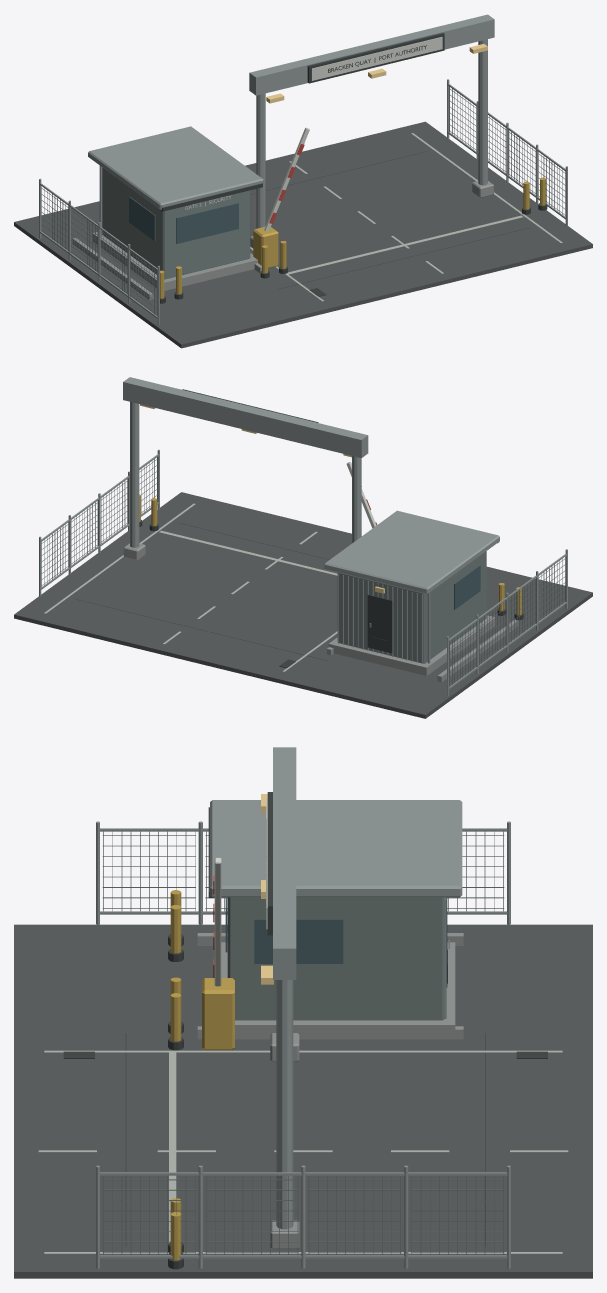
Rendered from bracken-gatehouse.glb.
3 views of the same model, one above another, from view 1: azimuth 30°, elevation 25°; view 2: azimuth 150°, elevation 25°; view 3: azimuth 270°, elevation 25° (orthographic). The views are drawn at different scales.
Visible parts, largest first — view 1: road asphalt module, booth low canopy, security booth body, open fence wire vertical, booth footway kerb, asphalt repair seam, security booth side window, security booth label, barrier operator cabinet, faded lane edge; view 2: road asphalt module, booth low canopy, security booth body, open fence wire vertical, booth footway kerb, asphalt repair seam, faded lane edge, security booth side window, barrier operator cabinet; view 3: road asphalt module, booth low canopy, security booth body, open fence wire vertical, booth footway kerb, barrier operator cabinet, faded lane edge, asphalt repair seam, security booth side window, security booth label.
Part boxes in pixels (box(x1,y1,x2,y2)): road asphalt module: box(14, 121, 592, 348); booth low canopy: box(39, 14, 567, 325); security booth body: box(102, 167, 250, 279); open fence wire vertical: box(41, 86, 565, 316); booth footway kerb: box(72, 181, 493, 300); asphalt repair seam: box(160, 33, 547, 303); security booth side window: box(129, 196, 238, 243); security booth label: box(185, 37, 442, 231); barrier operator cabinet: box(160, 177, 545, 298); faded lane edge: box(250, 133, 562, 301); road asphalt module: box(14, 492, 592, 718); booth low canopy: box(39, 377, 567, 695); security booth body: box(337, 551, 486, 663); open fence wire vertical: box(41, 457, 565, 686); booth footway kerb: box(123, 543, 518, 682); asphalt repair seam: box(75, 389, 523, 668); faded lane edge: box(44, 503, 337, 671); security booth side window: box(454, 565, 480, 609); barrier operator cabinet: box(139, 494, 521, 615); road asphalt module: box(14, 924, 592, 1278); booth low canopy: box(96, 747, 510, 1268); security booth body: box(227, 897, 444, 1020); open fence wire vertical: box(102, 831, 504, 1255); booth footway kerb: box(197, 933, 463, 1249); barrier operator cabinet: box(170, 890, 234, 1260); faded lane edge: box(38, 1050, 568, 1253); asphalt repair seam: box(63, 792, 547, 1269); security booth side window: box(225, 897, 343, 963); security booth label: box(214, 798, 267, 986).
Size of the model in its own units: 17.62 by 7.34 by 12.4.
